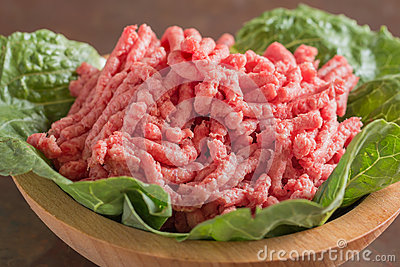ground_beef: (61, 23, 364, 214)
